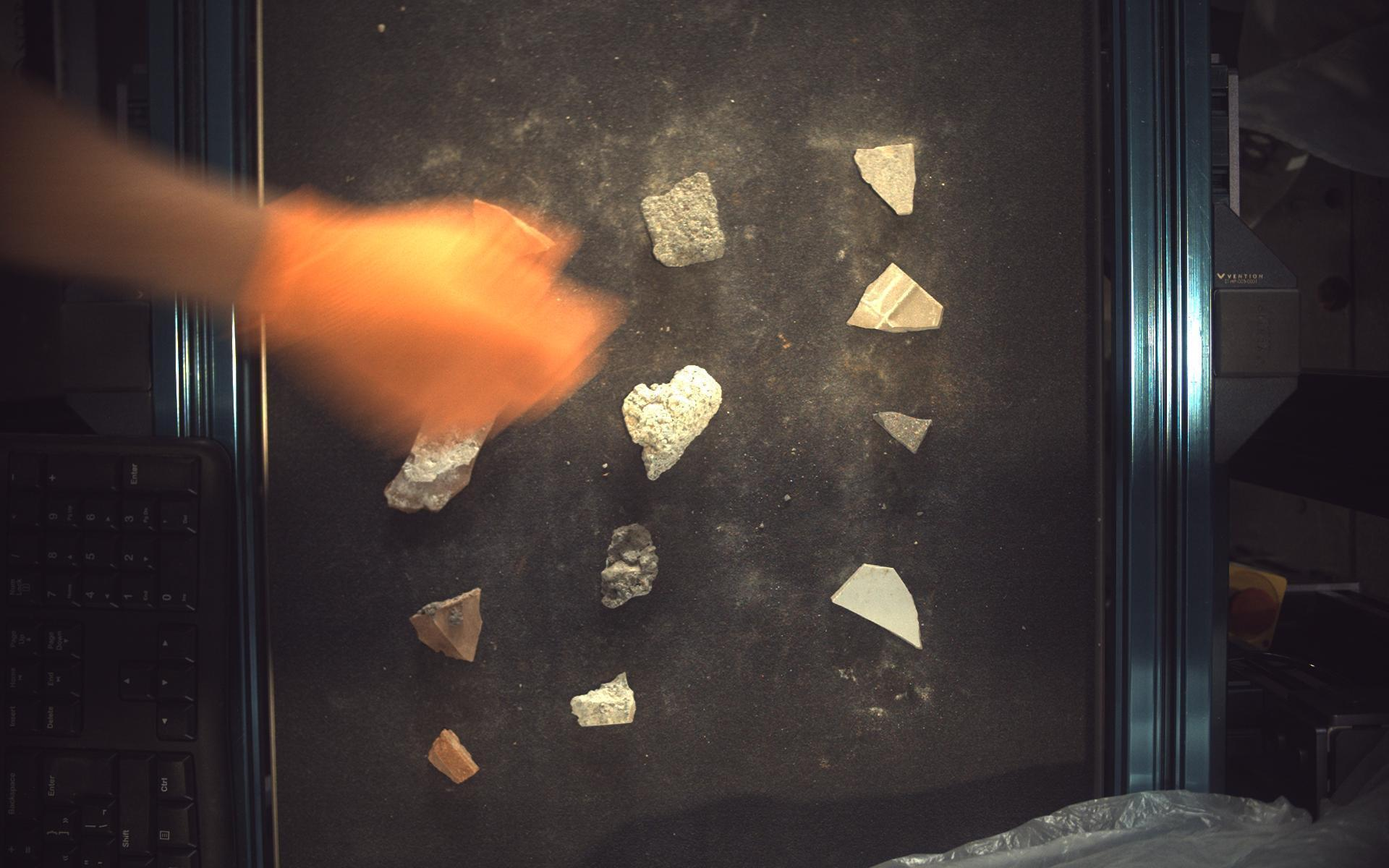brick: (384, 420, 492, 513), (409, 589, 483, 663), (428, 731, 480, 786)
concrete: (623, 365, 723, 480), (642, 171, 726, 266), (602, 524, 659, 610), (572, 673, 637, 728)
tile: (834, 564, 924, 650), (849, 263, 945, 332), (856, 144, 917, 214), (875, 412, 933, 454)
